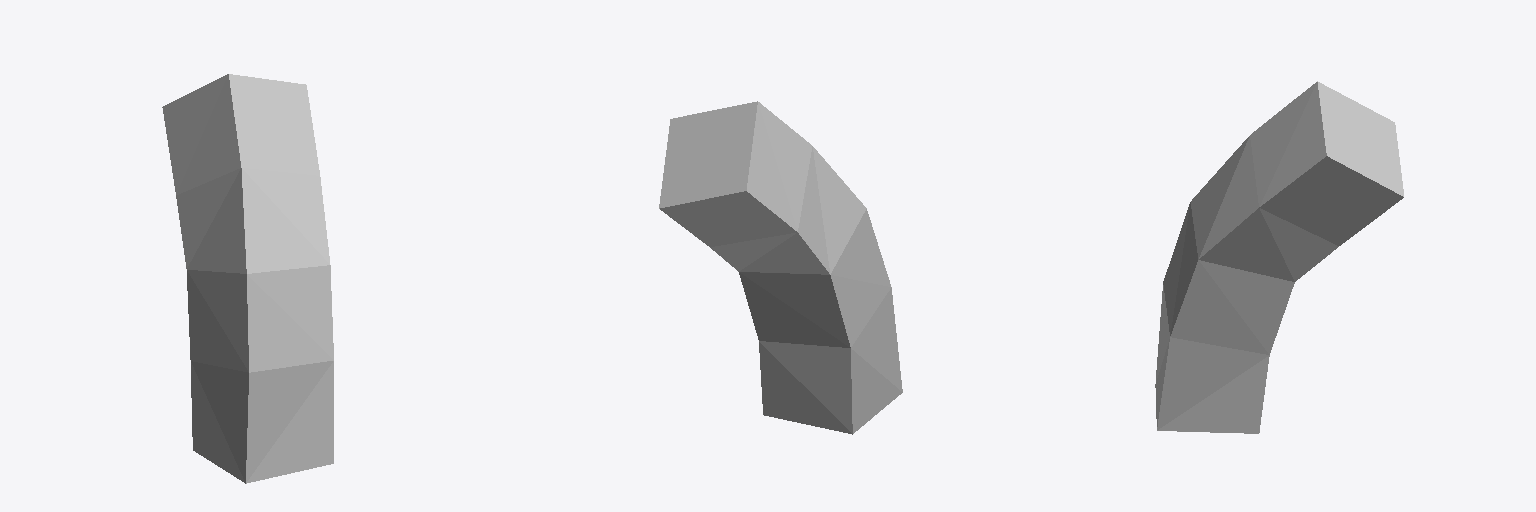
Rendered from wiggle_000022.obj.
3 renders of one model, left to right at view 1: azimuth 30°, elevation 25°; view 2: azimuth 150°, elevation 25°; view 3: azimuth 270°, elevation 25°, orthographic.
Parts seen in each view (by area): view 1: Cube; view 2: Cube; view 3: Cube.
Part boxes in pixels (left/top/right/bottom): Cube: left=162, top=74, right=333, bottom=483; Cube: left=659, top=101, right=902, bottom=434; Cube: left=1155, top=81, right=1403, bottom=433.
Size of the model in its own units: 3.31 by 7.28 by 4.82.